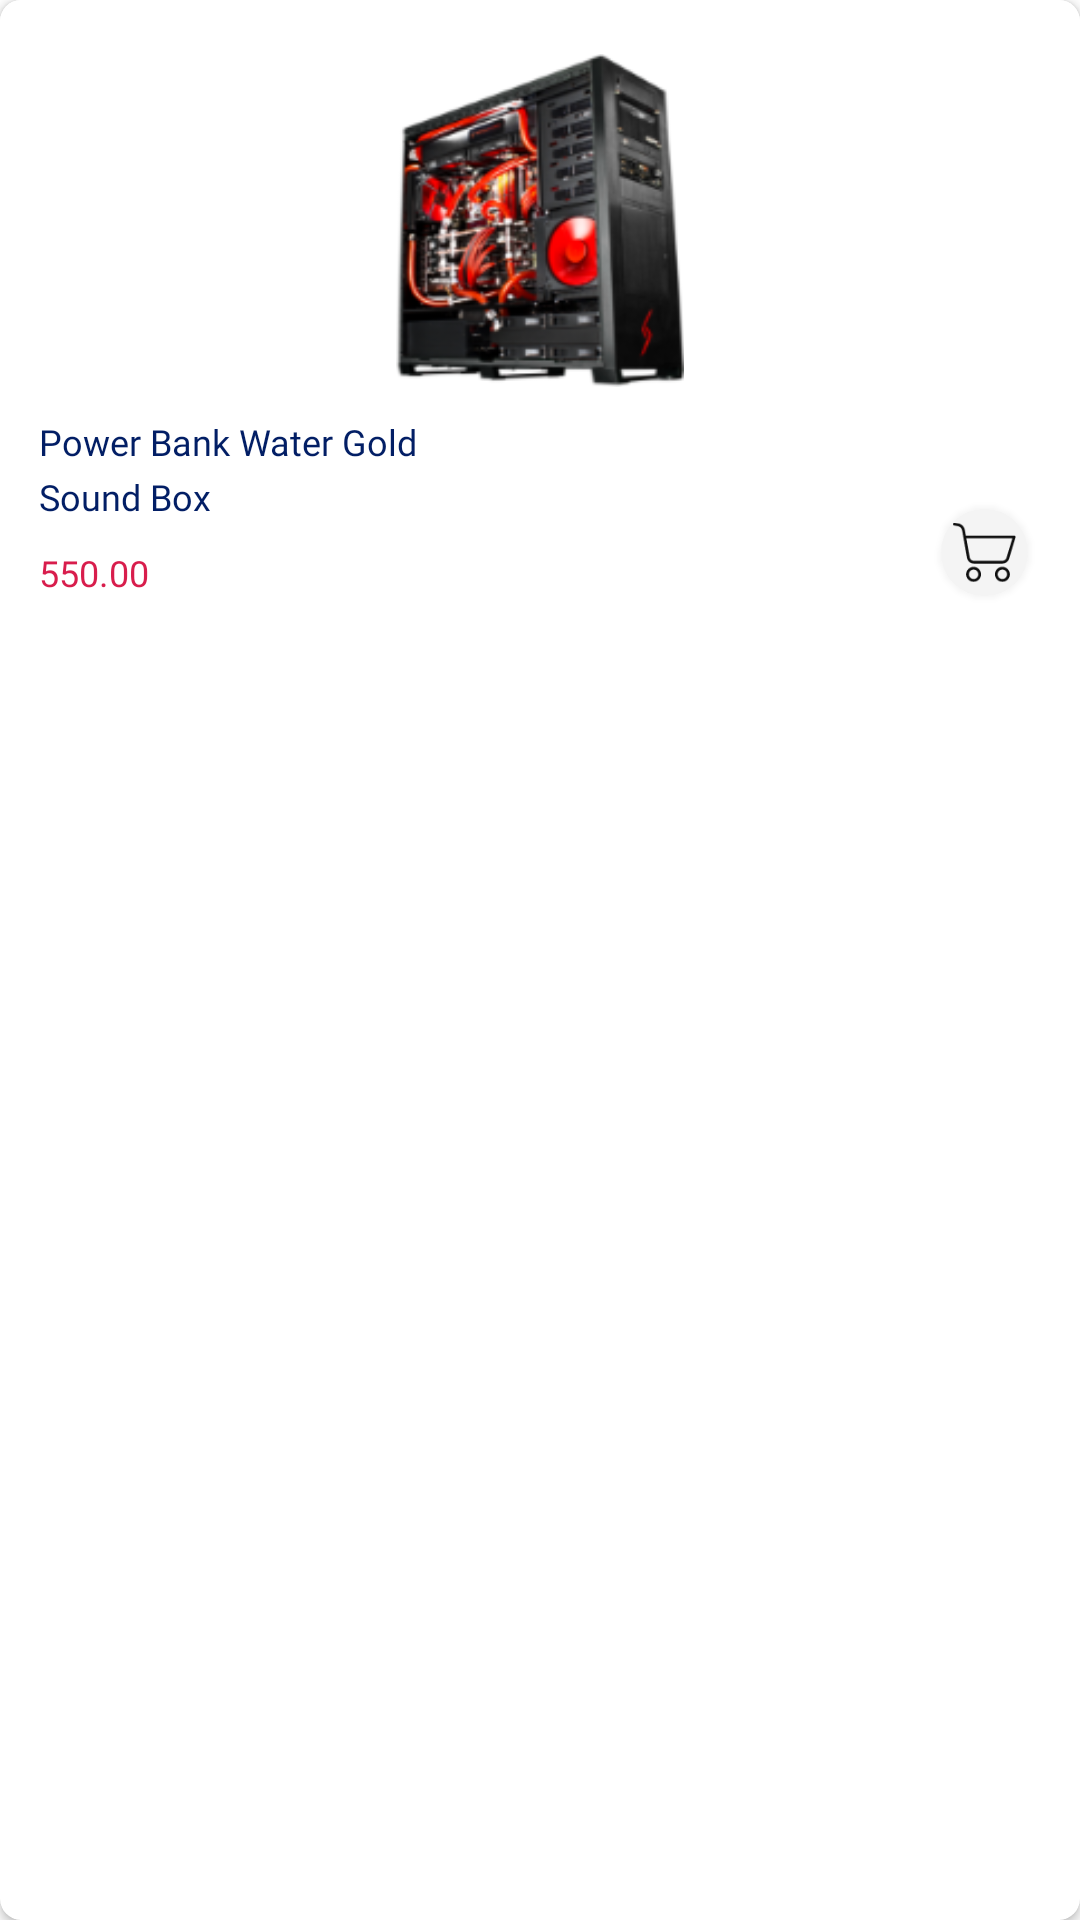

Icon bounding boxes for this 1080 x 1920 phone screenshot, format (x1, y1, x2, y2):
cart: (941, 509, 1028, 596)
